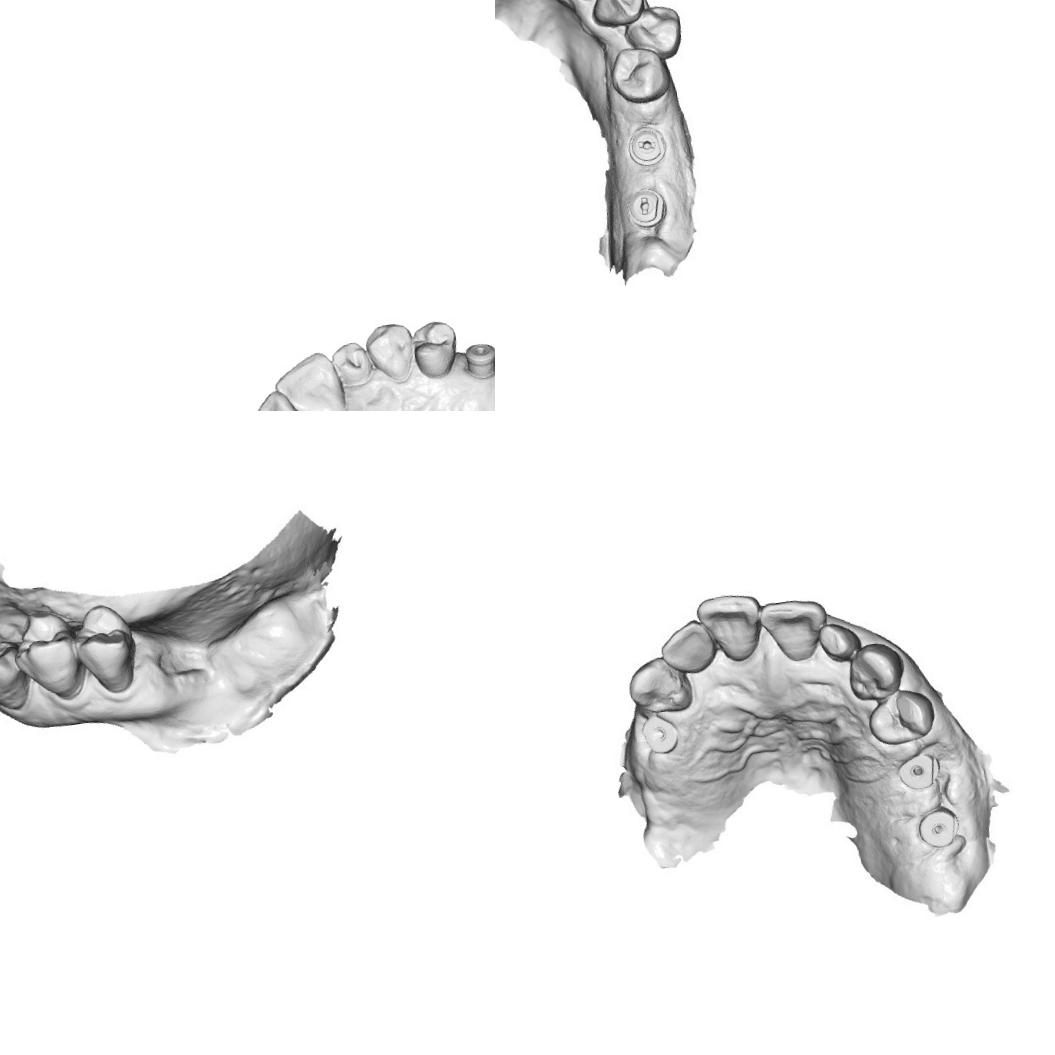canine: (622, 652, 697, 719), (842, 639, 908, 704), (362, 318, 420, 388), (0, 633, 28, 717), (586, 0, 647, 34)
implant: (892, 748, 946, 794), (914, 803, 963, 852), (642, 717, 682, 754), (461, 339, 495, 381)
implant_minus: (622, 184, 668, 230), (625, 123, 669, 169)
incisor: (754, 593, 834, 668), (694, 588, 766, 667), (270, 347, 350, 411), (656, 616, 719, 679), (814, 618, 864, 667), (328, 339, 376, 390)
premolar: (72, 603, 144, 700), (18, 606, 86, 700), (862, 686, 938, 750), (604, 42, 675, 108), (623, 2, 686, 62), (408, 318, 462, 383)
